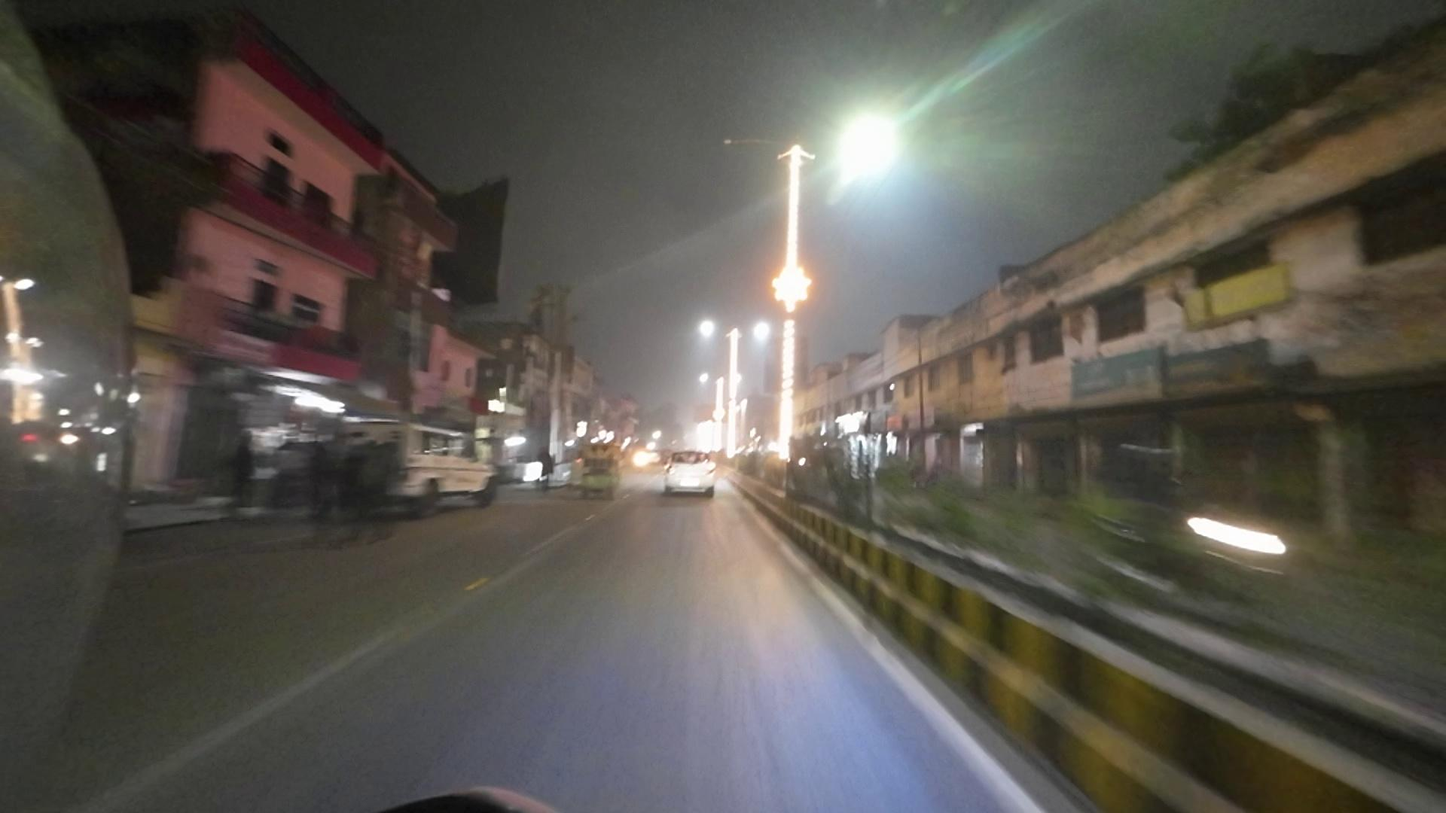streetlight: (720, 135, 787, 150)
